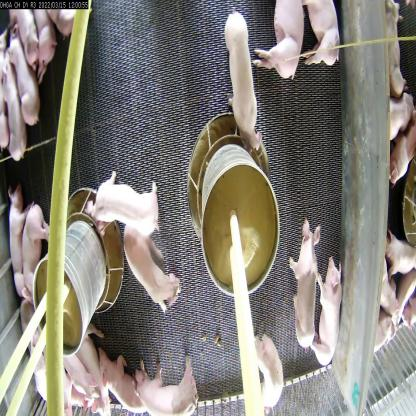Pig: (119, 213, 186, 318), (86, 151, 162, 240), (221, 17, 263, 147), (131, 346, 202, 415), (288, 210, 321, 353), (0, 20, 36, 134), (252, 0, 300, 83), (312, 252, 344, 370), (0, 44, 29, 169), (99, 344, 149, 415), (18, 206, 56, 296), (2, 173, 27, 308), (252, 317, 288, 410), (63, 339, 104, 415), (300, 0, 345, 68)
